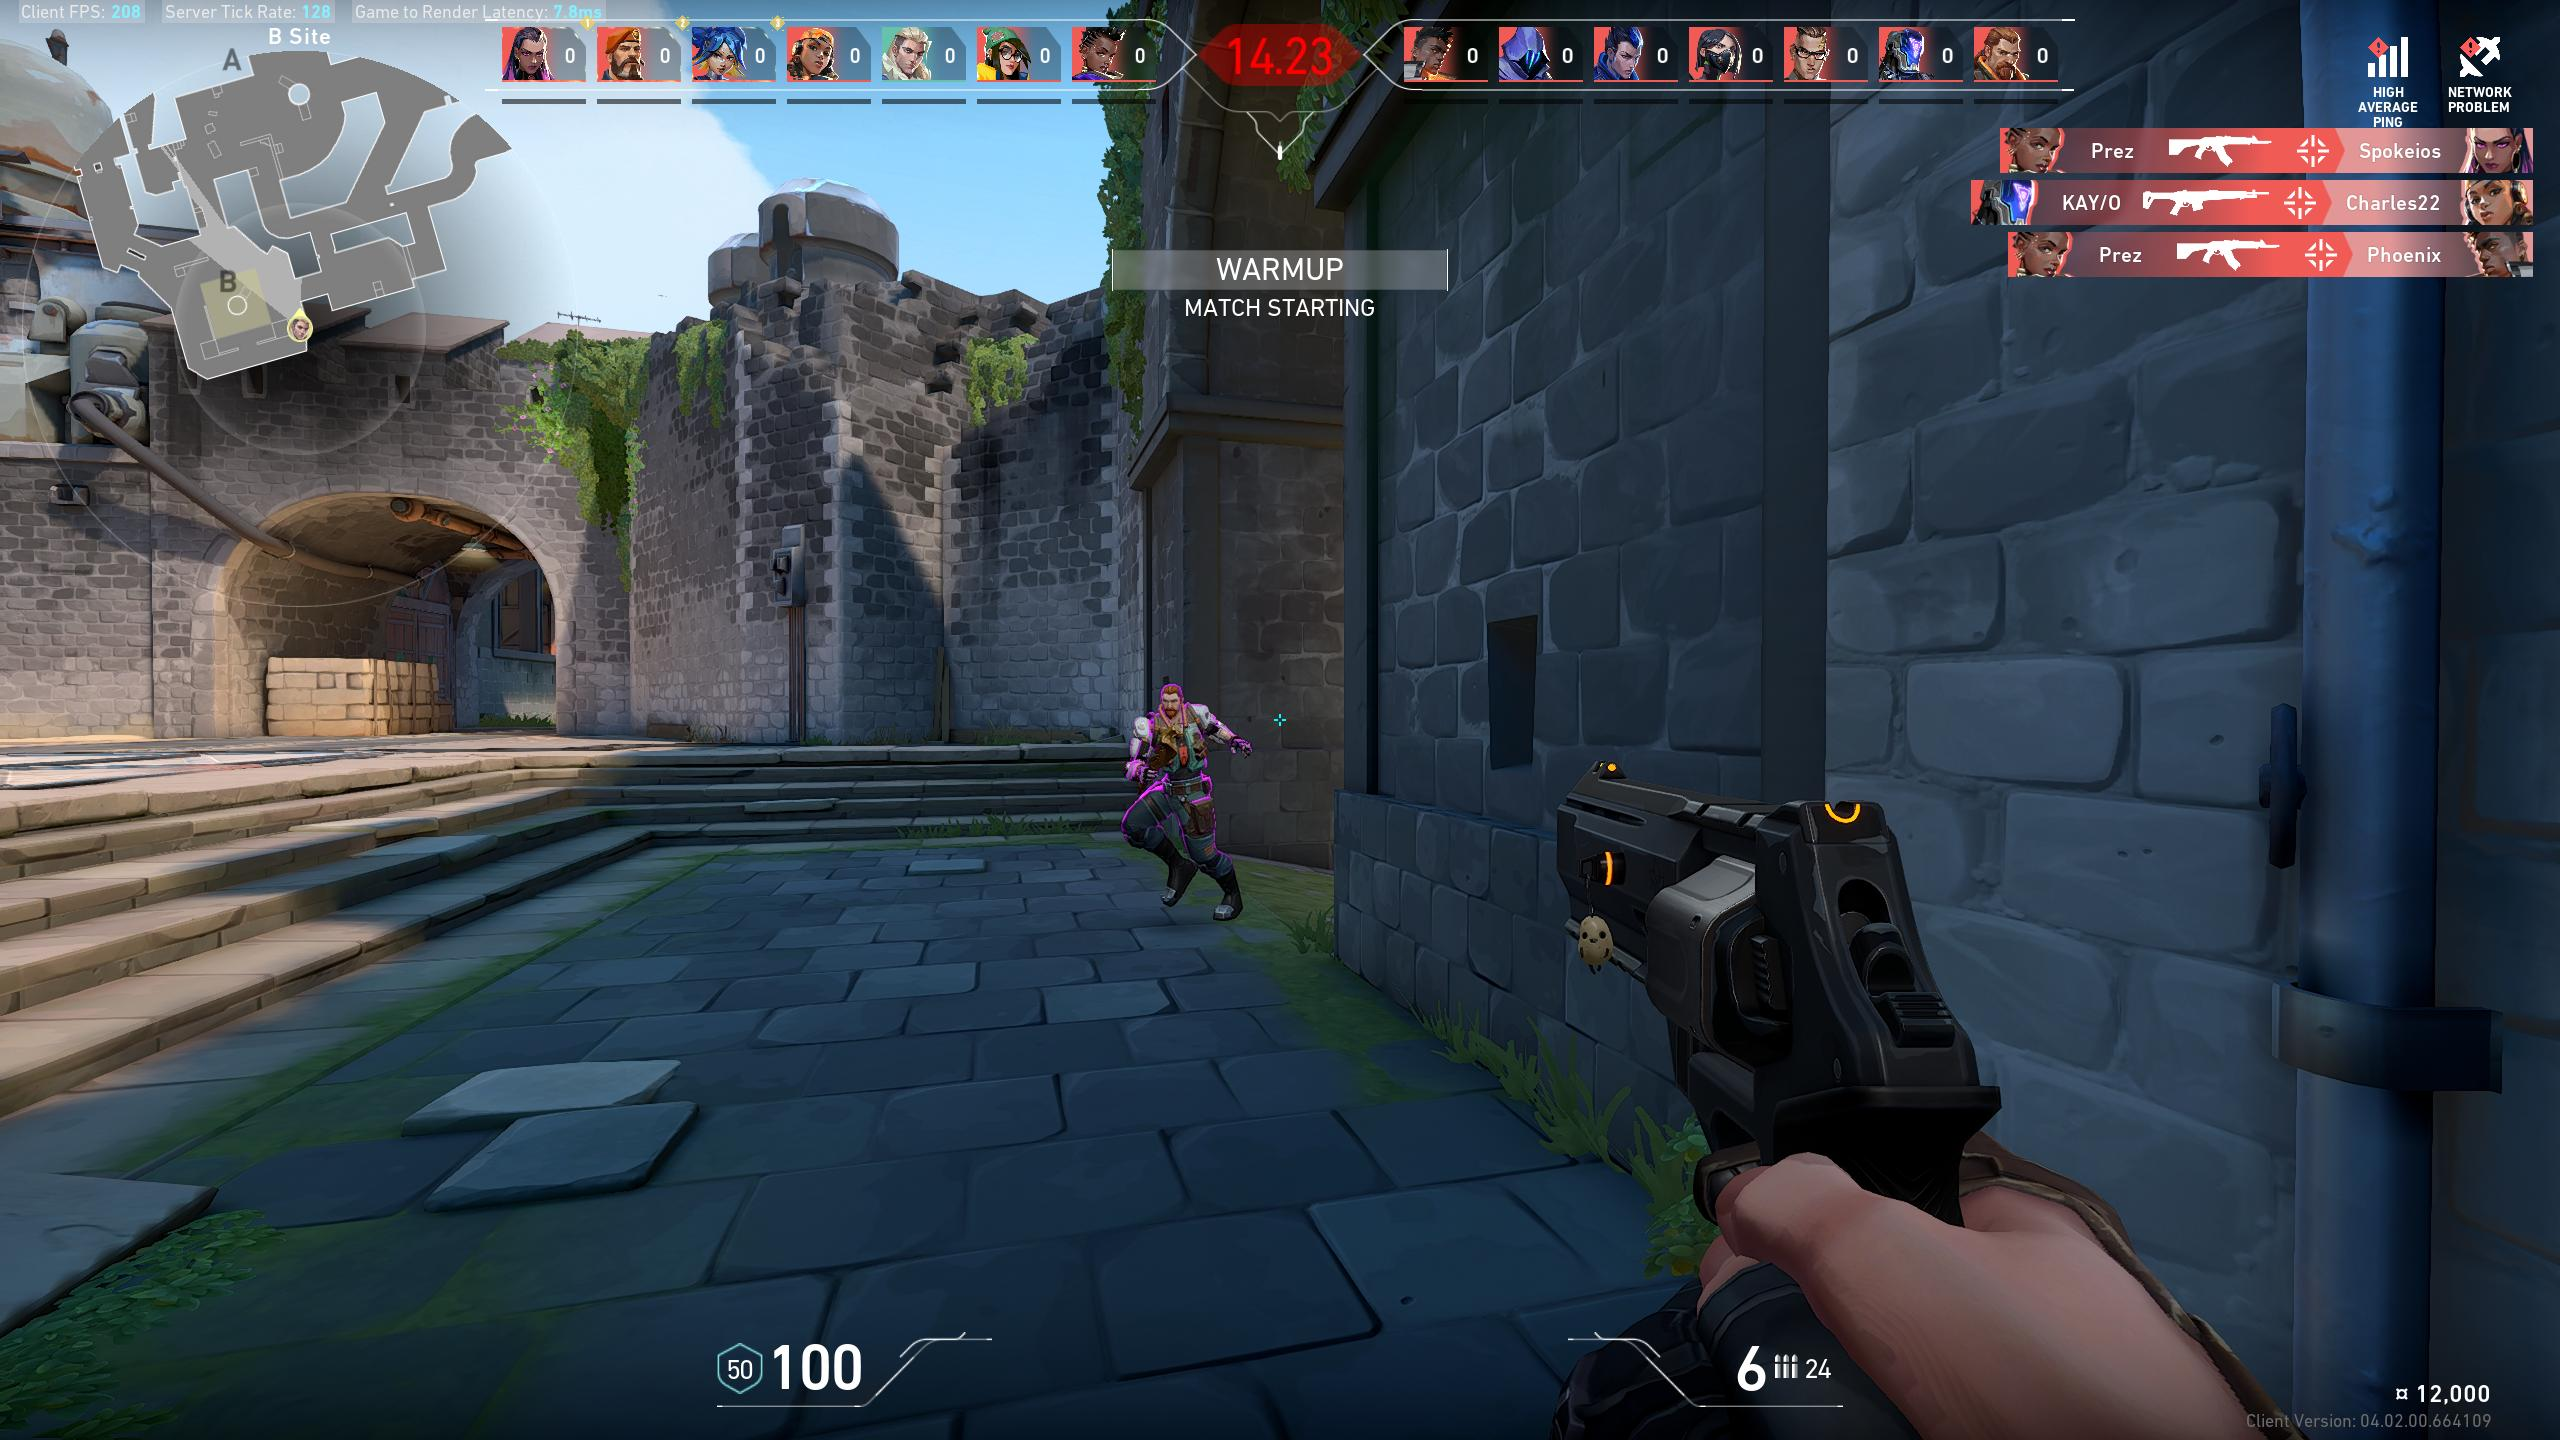enemyBody: (1152, 721, 1196, 788)
enemyHead: (1162, 693, 1182, 714)
